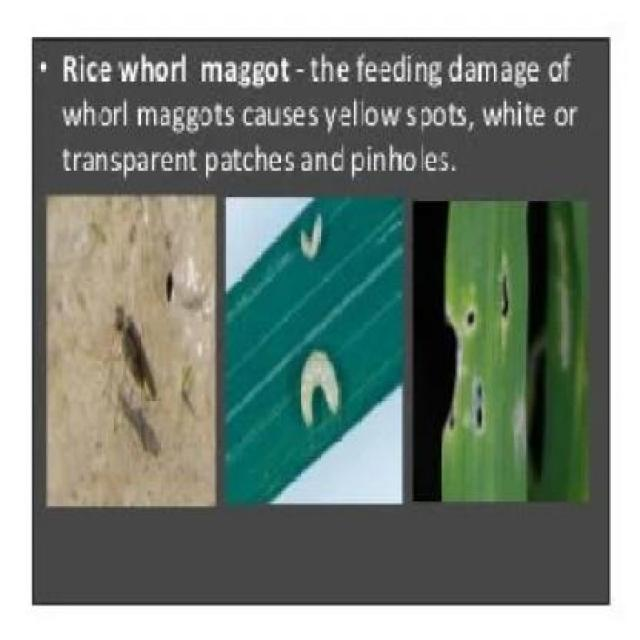whorl-maggot: (289, 341, 346, 439), (298, 212, 333, 266)
